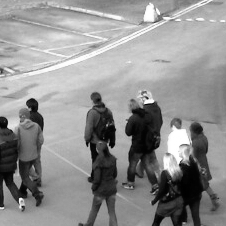person: (79, 141, 121, 226), (125, 98, 158, 194), (84, 91, 117, 184), (190, 119, 220, 214), (16, 107, 43, 207), (152, 151, 186, 226), (178, 143, 208, 226), (1, 116, 25, 213), (138, 90, 162, 176), (167, 117, 193, 163), (23, 95, 44, 135)
